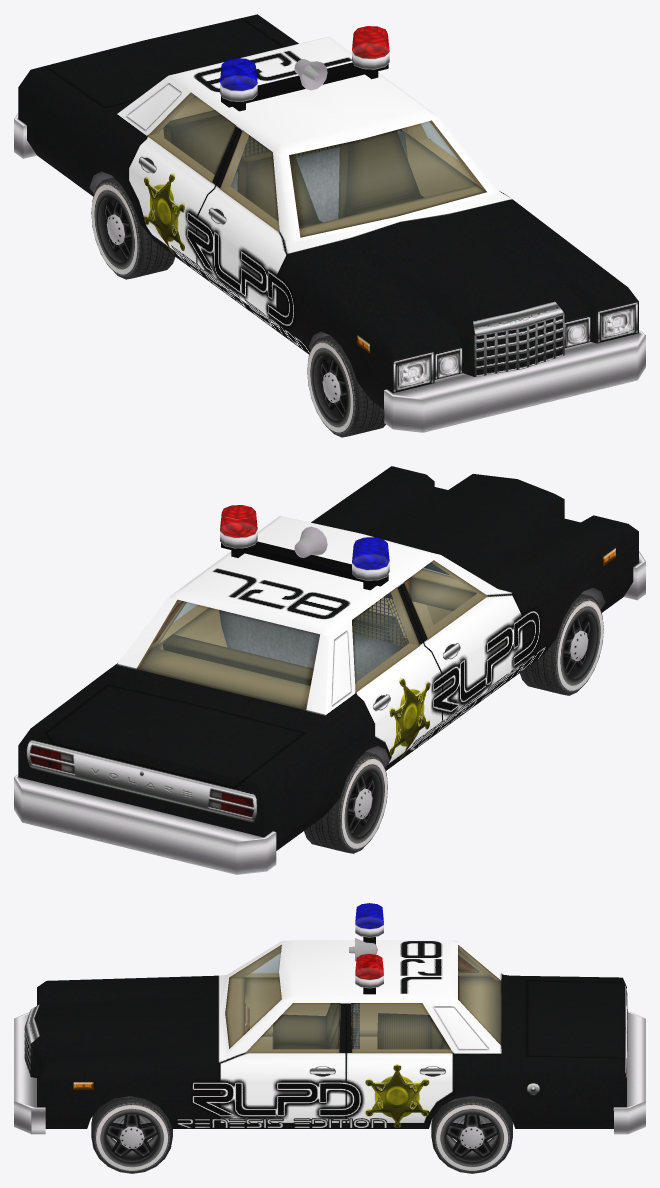
3 views of the same model, one above another, from view 1: azimuth 30°, elevation 25°; view 2: azimuth 150°, elevation 25°; view 3: azimuth 270°, elevation 25° (orthographic). The views are drawn at different scales.
Visible parts, largest first — view 1: BODY, INTERIOR, ADDON_0, WHEEL_0, WHEEL_2; view 2: BODY, INTERIOR, ADDON_0, WHEEL_0, WHEEL_2, ADDON_1; view 3: BODY, INTERIOR, WHEEL_1, WHEEL_3, ADDON_0.
Part boxes in pixels (x1,y1,x2,y2): BODY: [14, 14, 645, 432]; INTERIOR: [148, 92, 486, 237]; ADDON_0: [220, 26, 389, 111]; WHEEL_0: [307, 335, 385, 437]; WHEEL_2: [91, 177, 175, 279]; BODY: [14, 466, 645, 874]; INTERIOR: [136, 560, 487, 710]; ADDON_0: [220, 505, 389, 590]; WHEEL_0: [520, 593, 603, 695]; WHEEL_2: [304, 752, 387, 853]; ADDON_1: [352, 592, 408, 646]; BODY: [14, 940, 645, 1134]; INTERIOR: [225, 945, 501, 1053]; WHEEL_1: [91, 1097, 172, 1173]; WHEEL_3: [431, 1099, 512, 1173]; ADDON_0: [349, 903, 383, 994].
Size of the model in its own units: 1.9 by 1.75 by 5.11.
23 materials, 23 textured.
